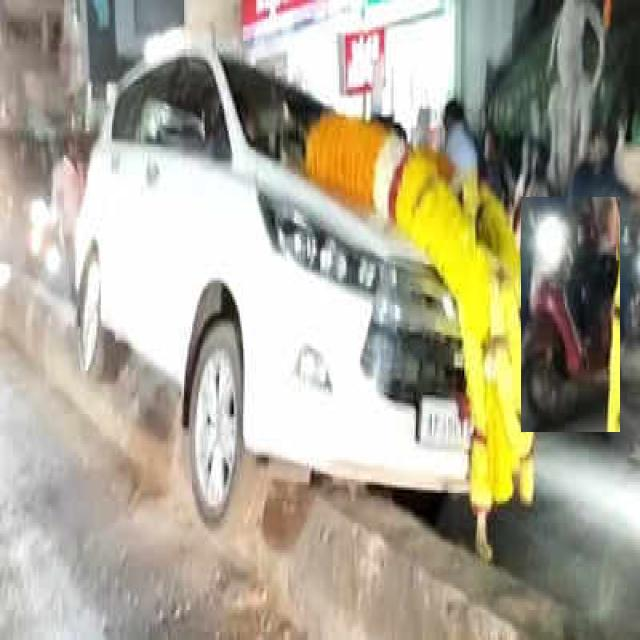accident: (72, 30, 472, 523)
motorcycle: (521, 198, 620, 432)
